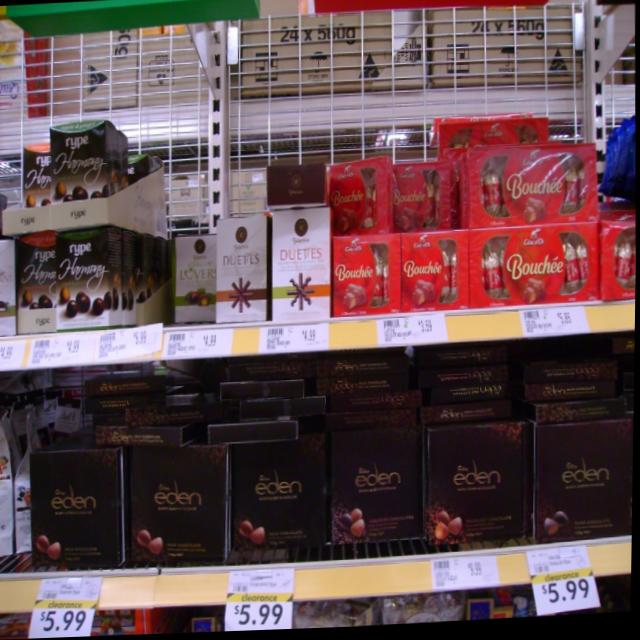q136: (52, 120, 120, 215), (54, 233, 111, 330)
